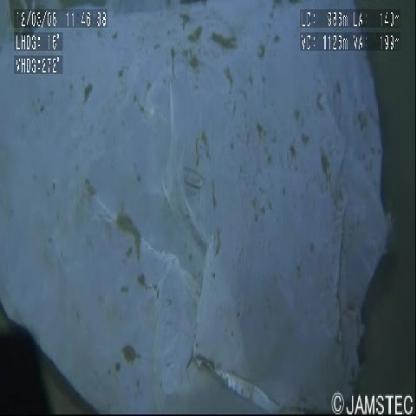Rov: (2, 328, 50, 416)
Rác: (0, 1, 395, 416)
